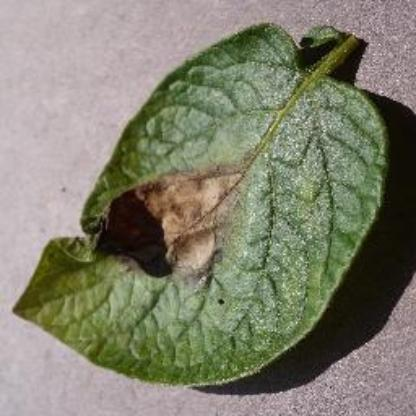Late-Blight: (12, 20, 402, 390)
